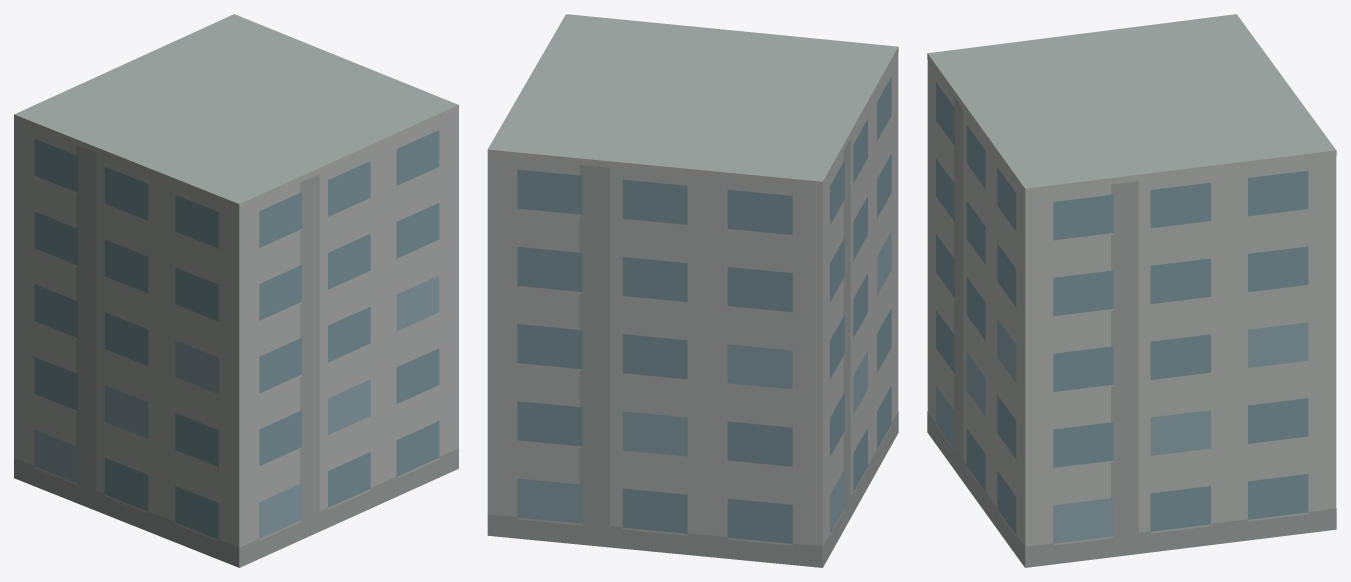
Rendered from survey-upis-32838210.glb.
The picture shows the model from 3 angles, left to right: view 1: azimuth 30°, elevation 25°; view 2: azimuth 150°, elevation 25°; view 3: azimuth 270°, elevation 25°; orthographic projection. The views are drawn at different scales.
Visible parts, largest first — view 1: survey-upis-32838210.tmp; view 2: survey-upis-32838210.tmp; view 3: survey-upis-32838210.tmp.
Part boxes in pixels (<box>): survey-upis-32838210.tmp: <box>14,14,458,567</box>; survey-upis-32838210.tmp: <box>487,14,898,567</box>; survey-upis-32838210.tmp: <box>927,14,1336,567</box>.
Size of the model in its own units: 14.38 by 14.55 by 14.23.
